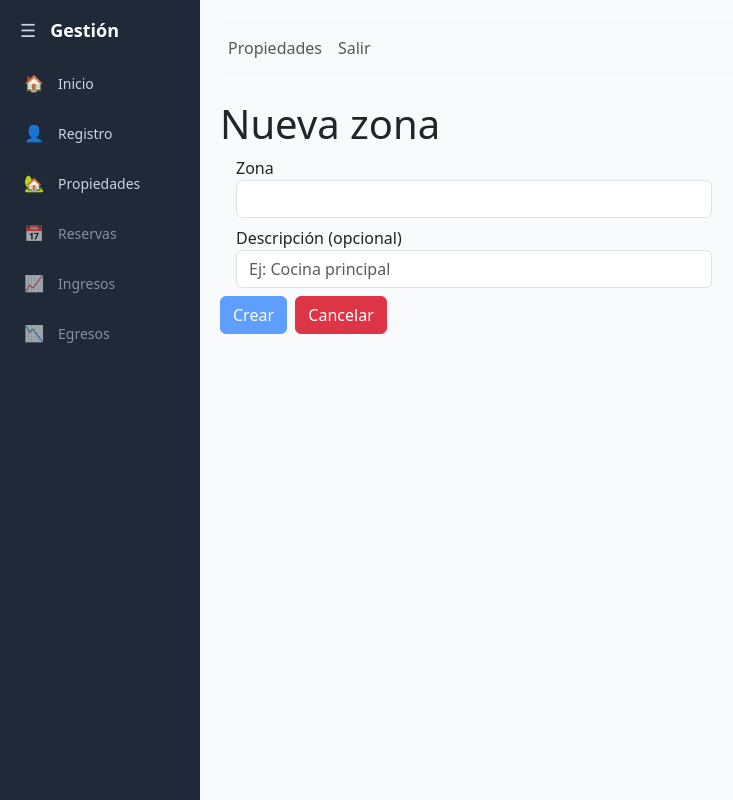
Scenario: Zona - crear › muestra validación de requerido en zona
Expected: the button "Crear" is disabled, [220,296,287,334]
Focus the dropdown with id "nombre_zona" at (474, 199), box [236,180,712,218]
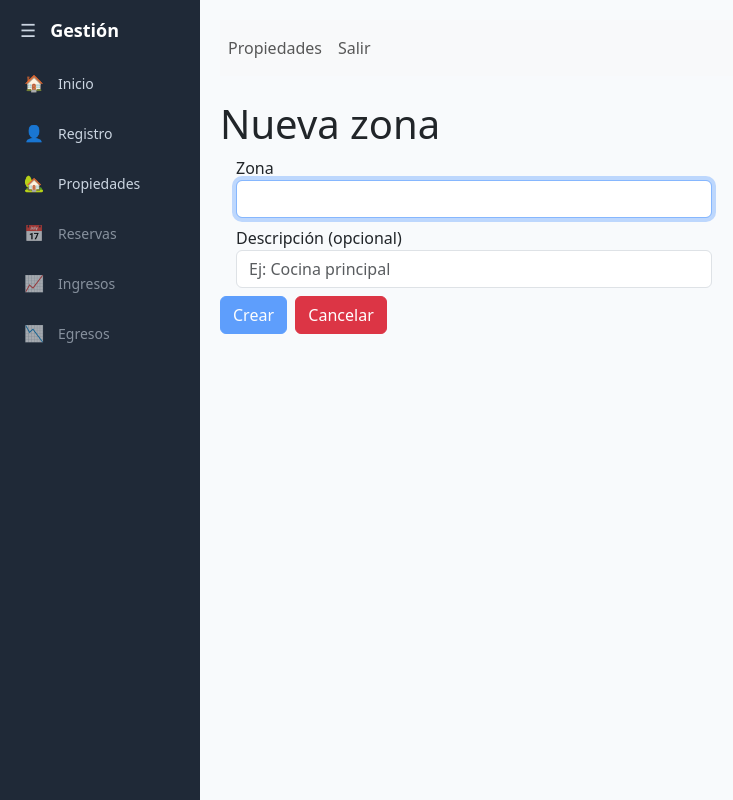
Leave the dropdown with id "nombre_zona", box [236,180,712,218]
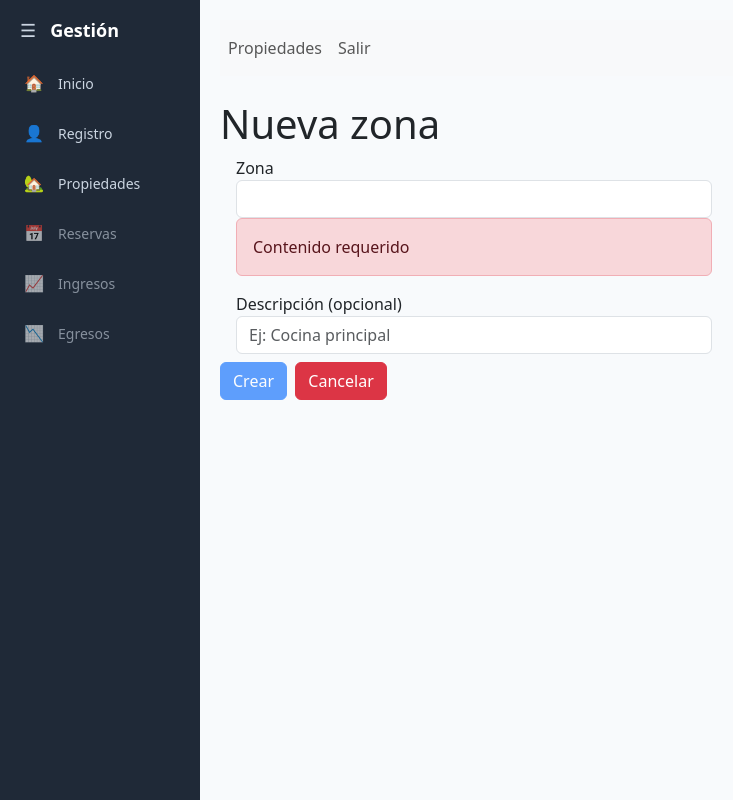
Expected: the text "Contenido requerido" is shown, [236,218,712,276]
